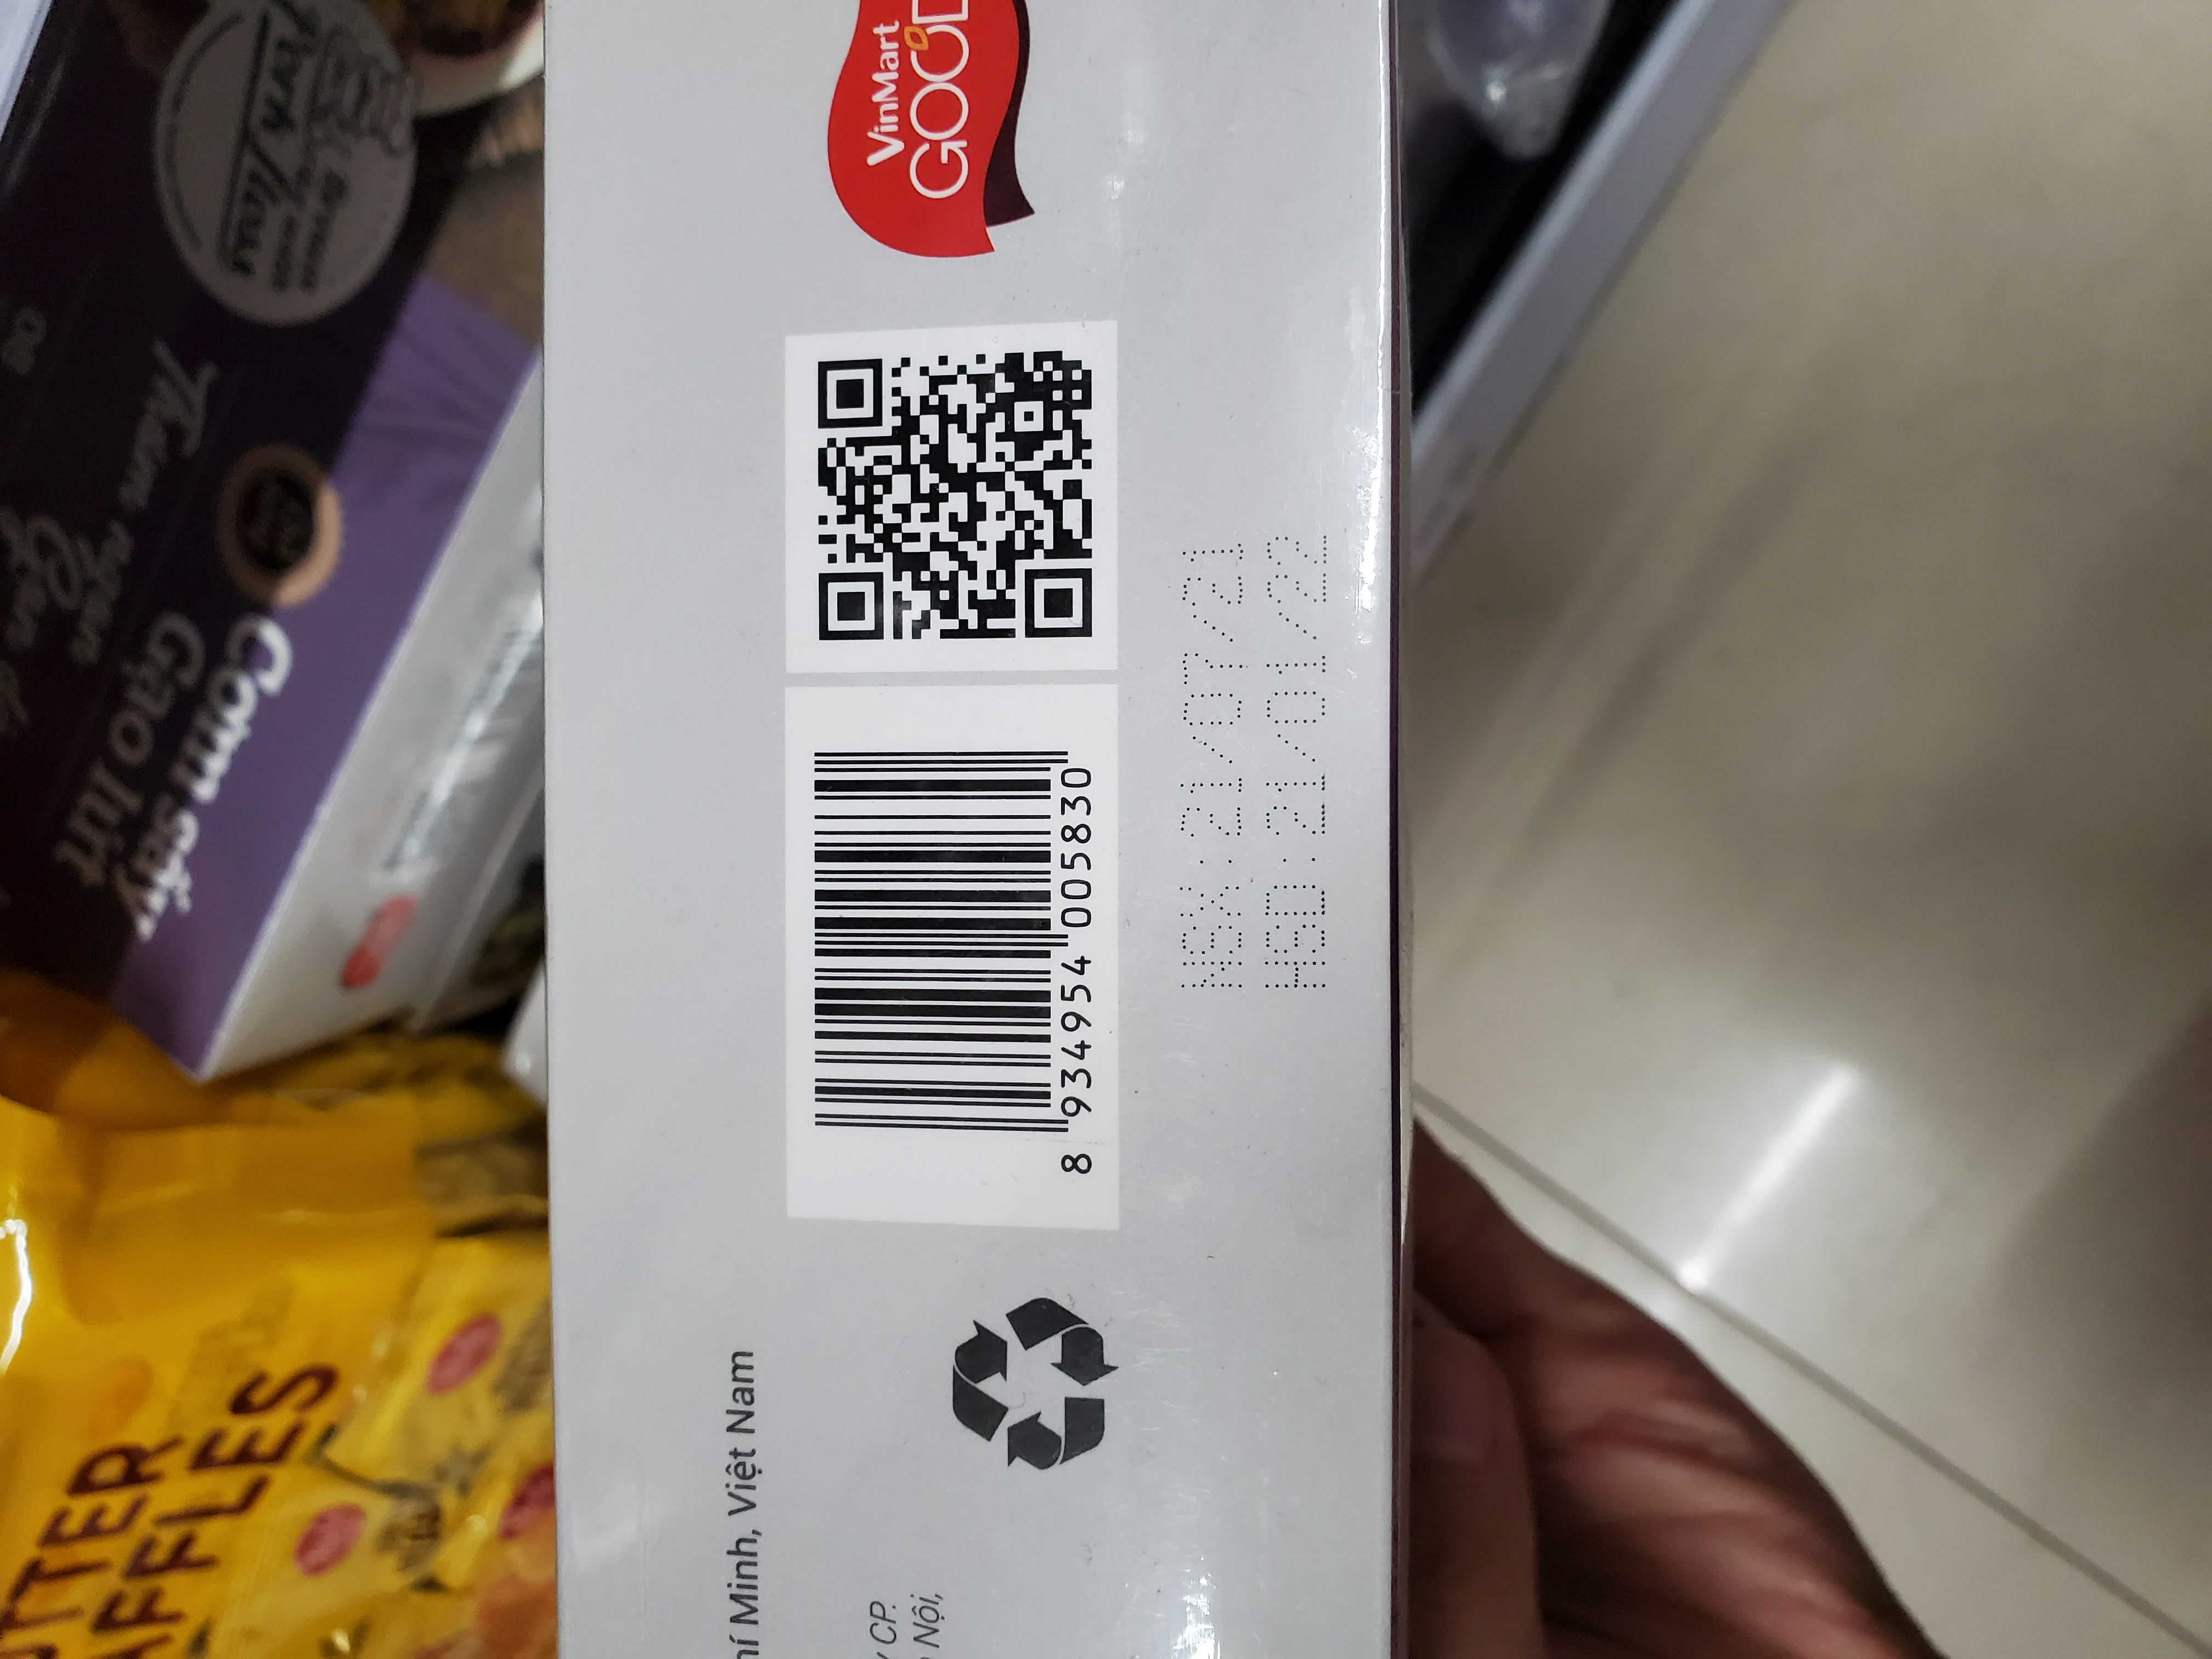barcode: (784, 697, 1113, 1225)
qr code: (799, 328, 1113, 664)
